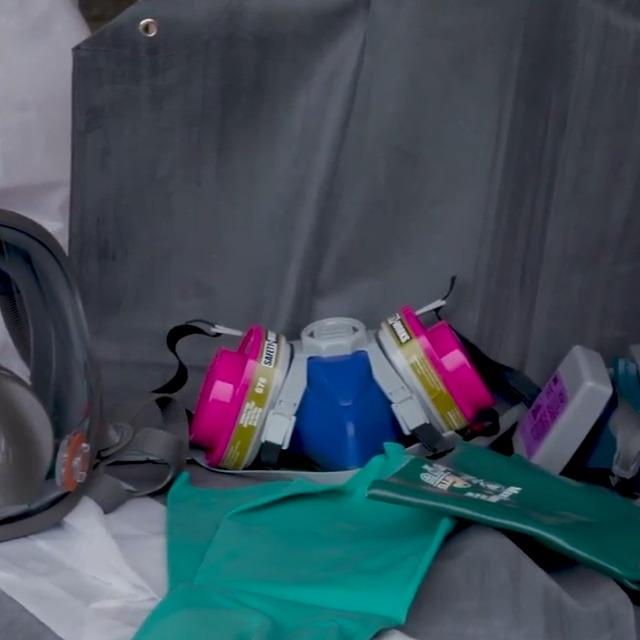Gloves: (89, 441, 451, 640), (365, 437, 640, 590), (163, 468, 365, 640)
Mask: (195, 304, 498, 472), (0, 202, 96, 546), (509, 323, 640, 498)
